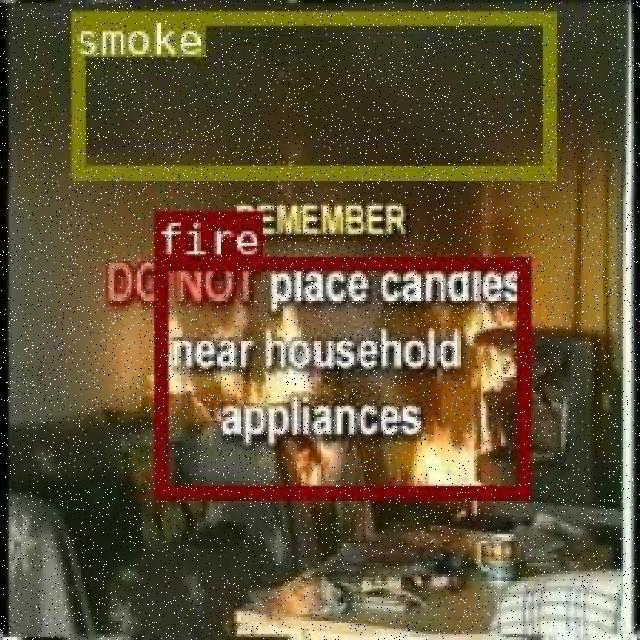Smoke: (68, 42, 554, 143)
